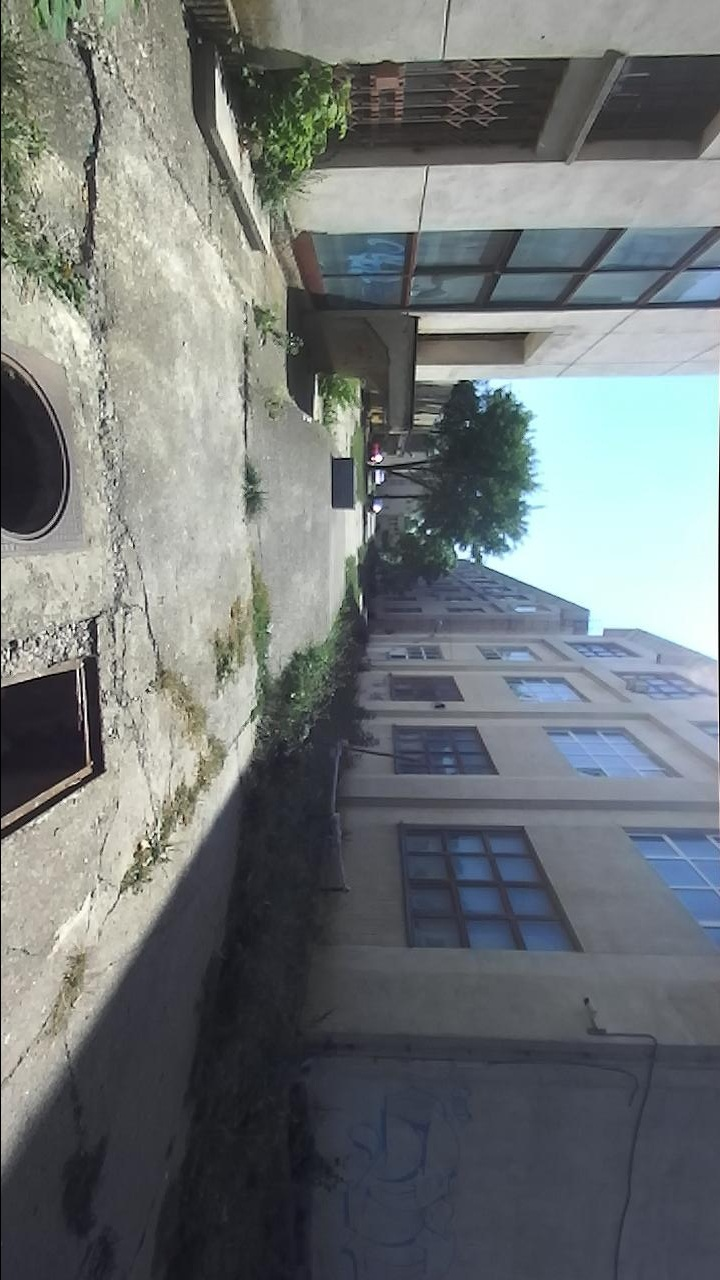drain: (0, 650, 111, 843), (0, 348, 75, 550)
